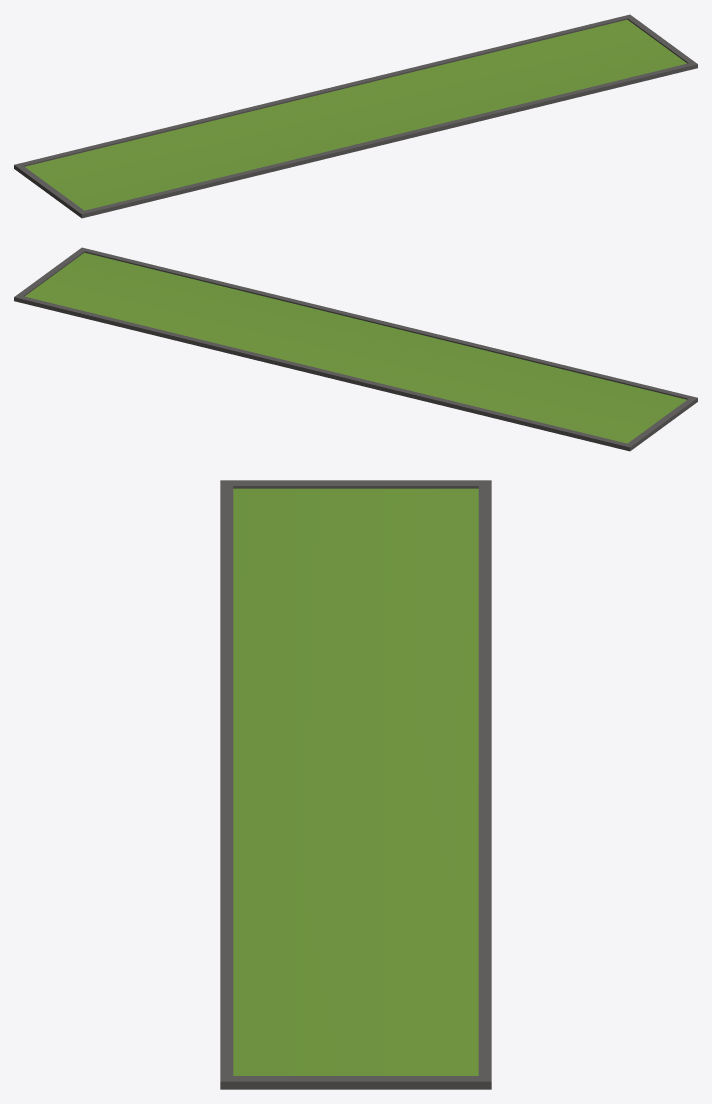
File: SM_Floor_Garden_05.fbx
3 views of the same model, one above another, from view 1: azimuth 30°, elevation 25°; view 2: azimuth 150°, elevation 25°; view 3: azimuth 270°, elevation 25° (orthographic). The views are drawn at different scales.
Visible parts, largest first — view 1: SM_Floor_Garden_05; view 2: SM_Floor_Garden_05; view 3: SM_Floor_Garden_05.
Part boxes in pixels (<box>): SM_Floor_Garden_05: <box>14,14,697,218</box>; SM_Floor_Garden_05: <box>14,247,697,451</box>; SM_Floor_Garden_05: <box>220,480,491,1089</box>.
Bounding box in the file's own units: 12.11 × 0.075 × 2.31.
